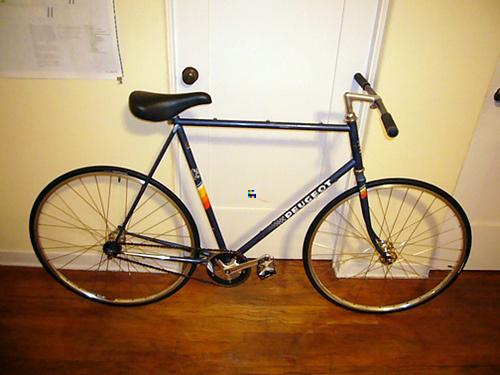car: (31, 71, 473, 317)
